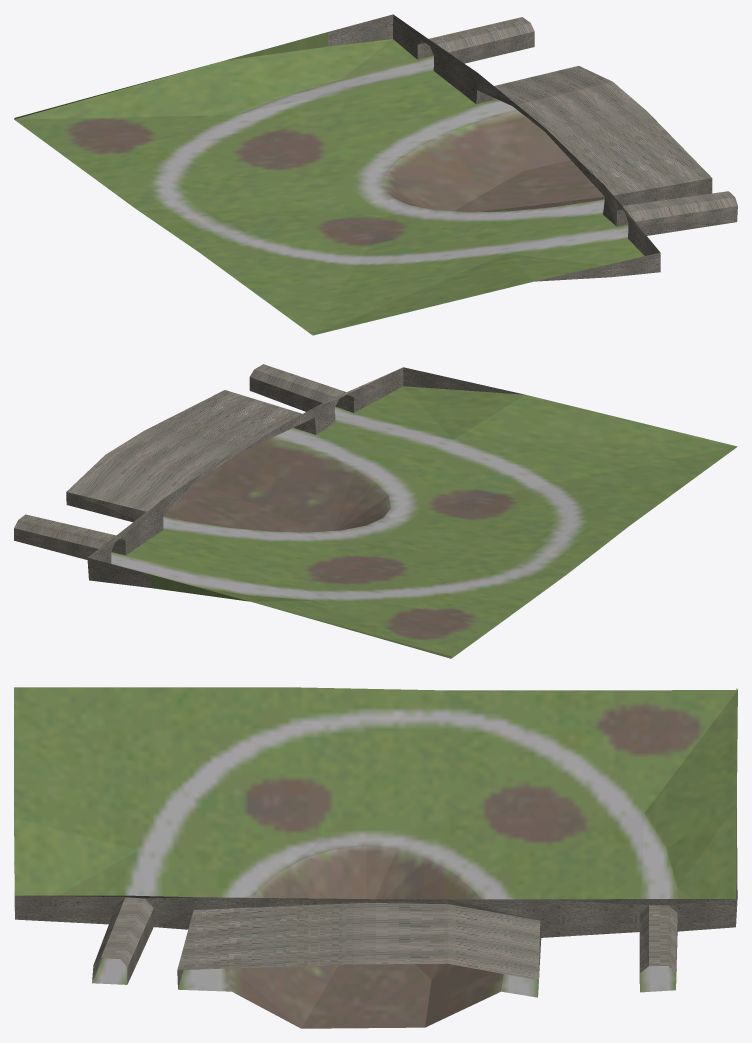
File: laelodpark01.obj
3 views of the same model, one above another, from view 1: azimuth 30°, elevation 25°; view 2: azimuth 150°, elevation 25°; view 3: azimuth 270°, elevation 25° (orthographic). The views are drawn at different scales.
Parts seen in each view (by area): view 1: laeLODPark01; view 2: laeLODPark01; view 3: laeLODPark01.
Part boxes in pixels (left/top/right/bottom): laeLODPark01: left=14, top=14, right=737, bottom=335; laeLODPark01: left=14, top=364, right=737, bottom=658; laeLODPark01: left=14, top=687, right=737, bottom=1028.
Bounding box in the file's own units: 98.24 × 12.8 × 105.
Materials: 2 (2 with a texture image).
